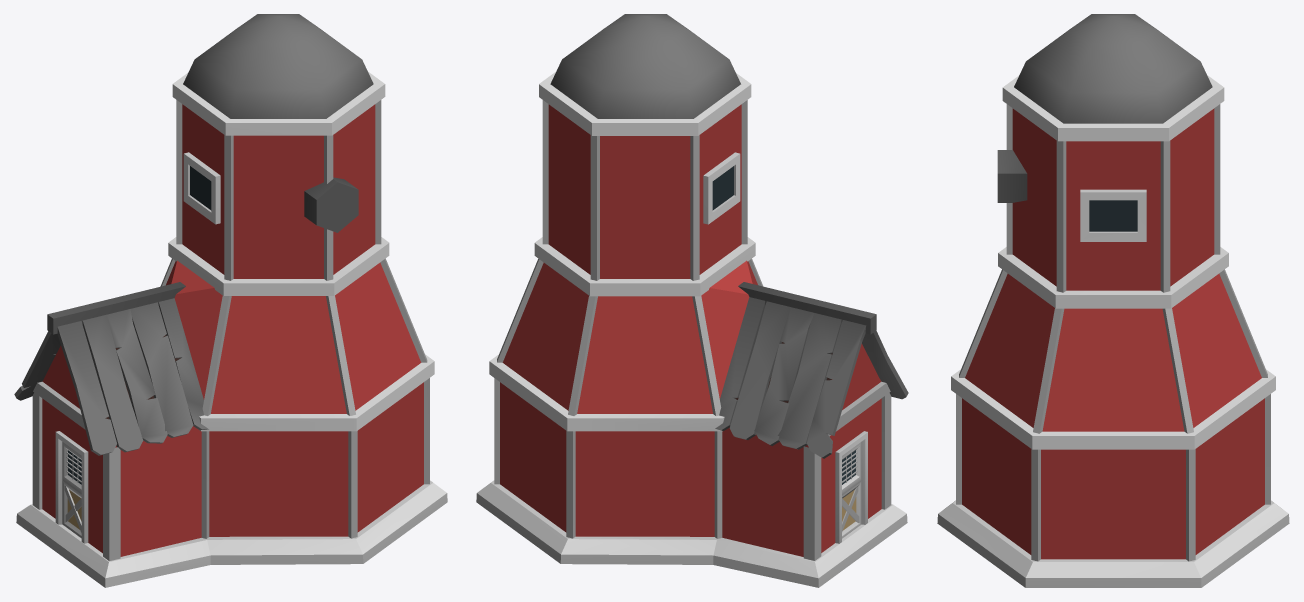
File: tower_001.glb
The picture shows the model from 3 angles, left to right: view 1: azimuth 30°, elevation 25°; view 2: azimuth 150°, elevation 25°; view 3: azimuth 270°, elevation 25°; orthographic projection. The views are drawn at different scales.
Parts seen in each view (by area): view 1: tower_001; view 2: tower_001; view 3: tower_001.
Part boxes in pixels (x1,y1,x2,y2): tower_001: (14,14,447,587); tower_001: (476,14,908,587); tower_001: (937,14,1289,587).
Bounding box in the file's own units: 8.18 × 10.7 × 6.74.
1 material, 1 textured.
